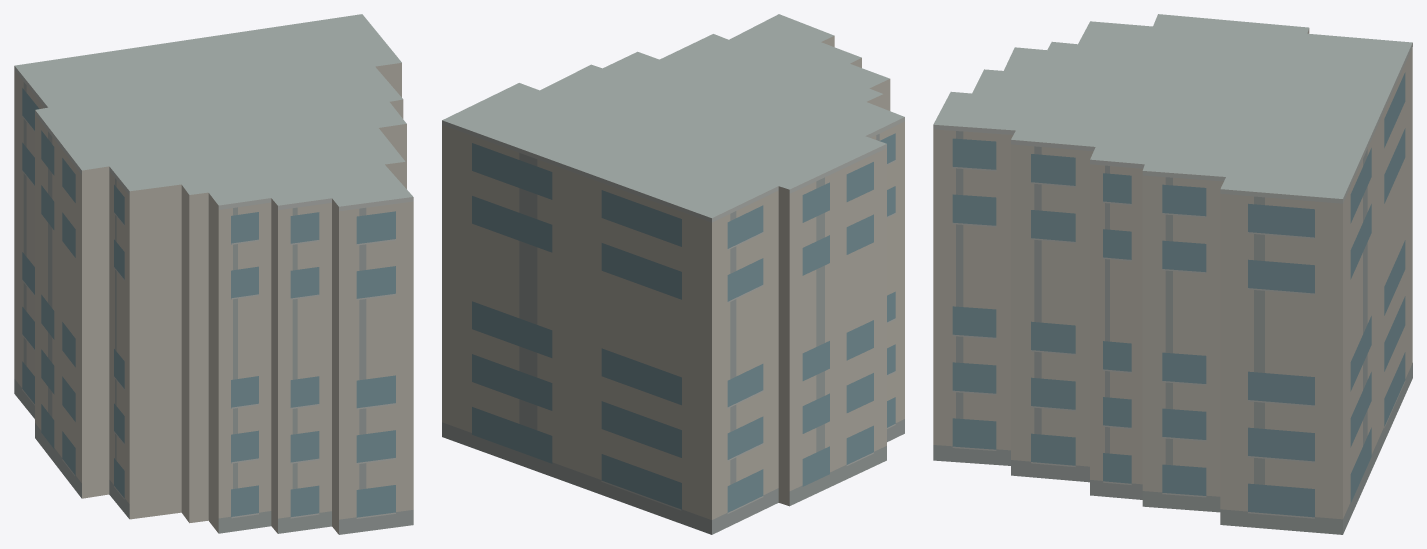
File: survey-upis-32984681.glb
The picture shows the model from 3 angles, left to right: view 1: azimuth 30°, elevation 25°; view 2: azimuth 150°, elevation 25°; view 3: azimuth 270°, elevation 25°; orthographic projection. The views are drawn at different scales.
Visible parts, largest first — view 1: survey-upis-32984681.tmp; view 2: survey-upis-32984681.tmp; view 3: survey-upis-32984681.tmp.
Boxes of the visible parts, <box> form: survey-upis-32984681.tmp: <box>14,14,413,534</box>; survey-upis-32984681.tmp: <box>442,14,904,534</box>; survey-upis-32984681.tmp: <box>933,14,1412,534</box>.
Size of the model in its own units: 20.82 by 17.6 by 22.79.
